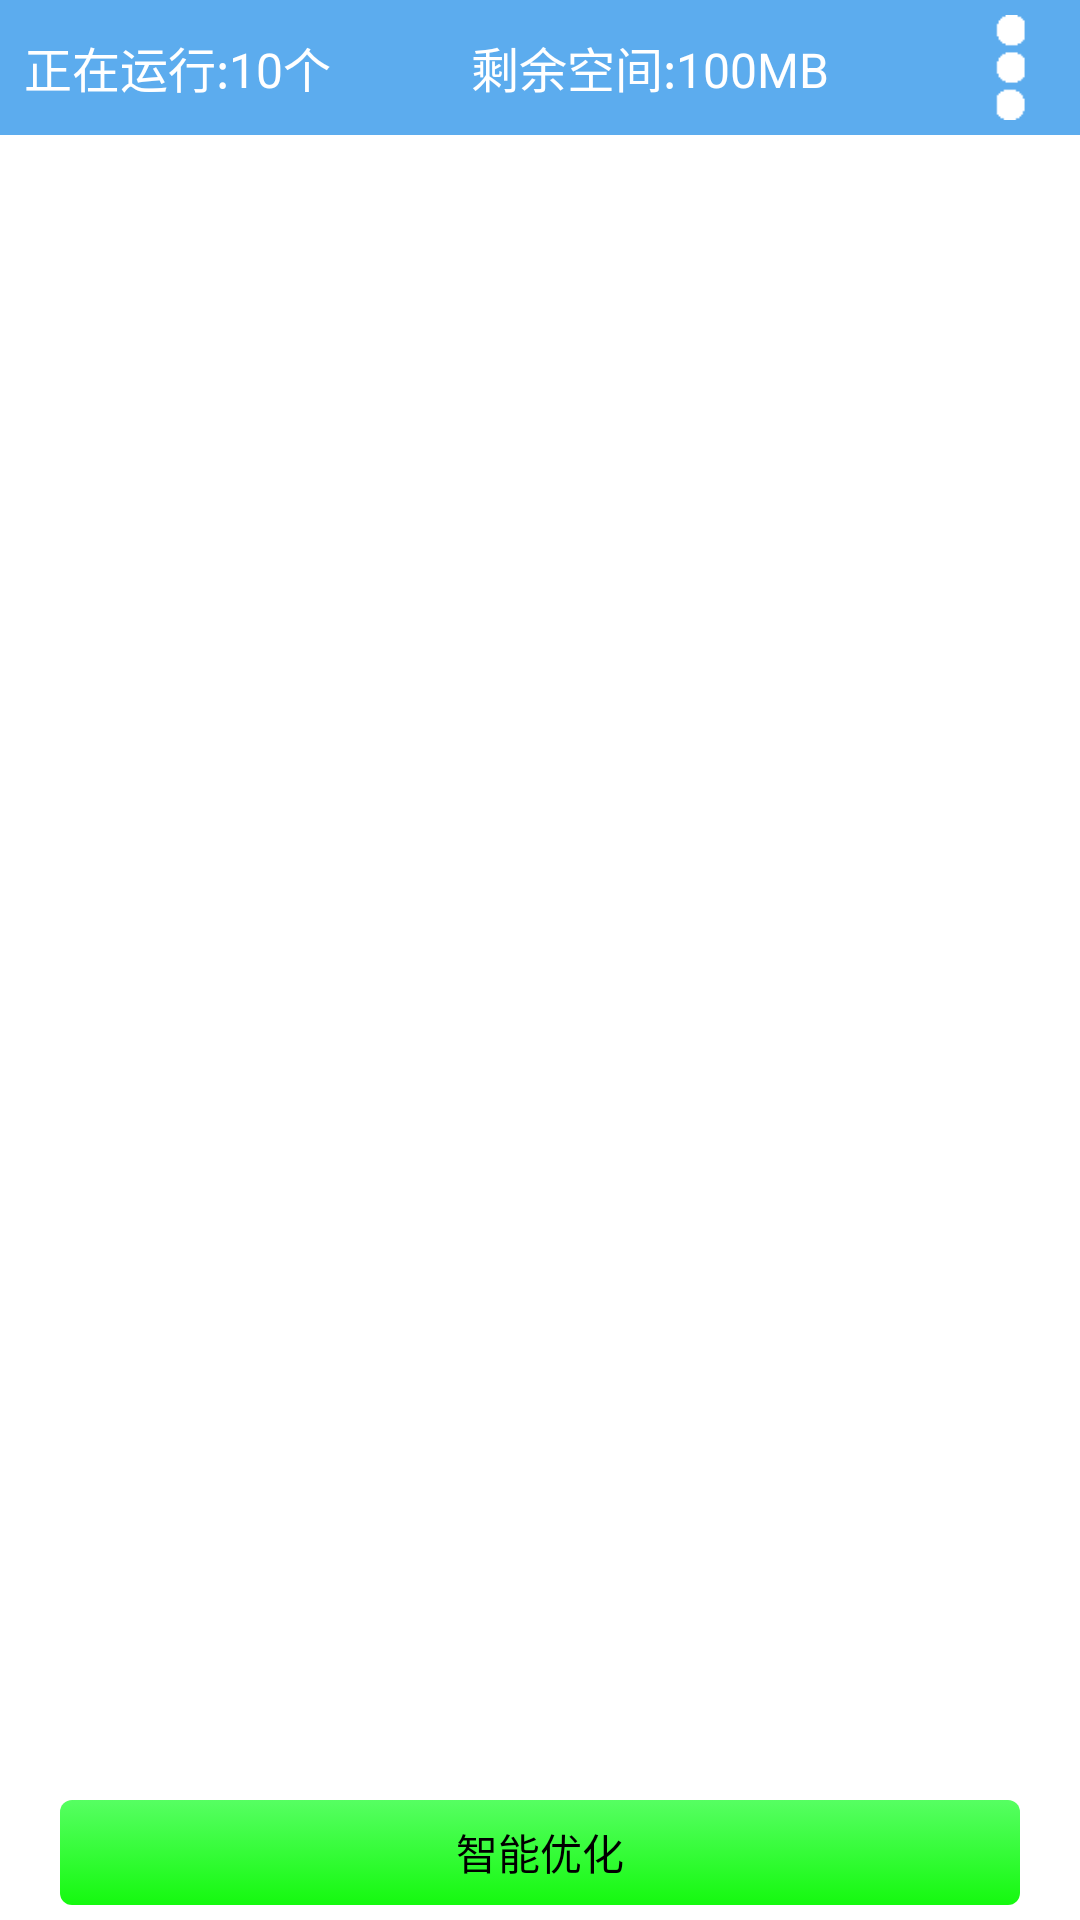

Screen size 1080px×1920px. Icon name, then its box in pixels as (x1, y1, x2, y2):
set title menu: (996, 15, 1025, 120)
